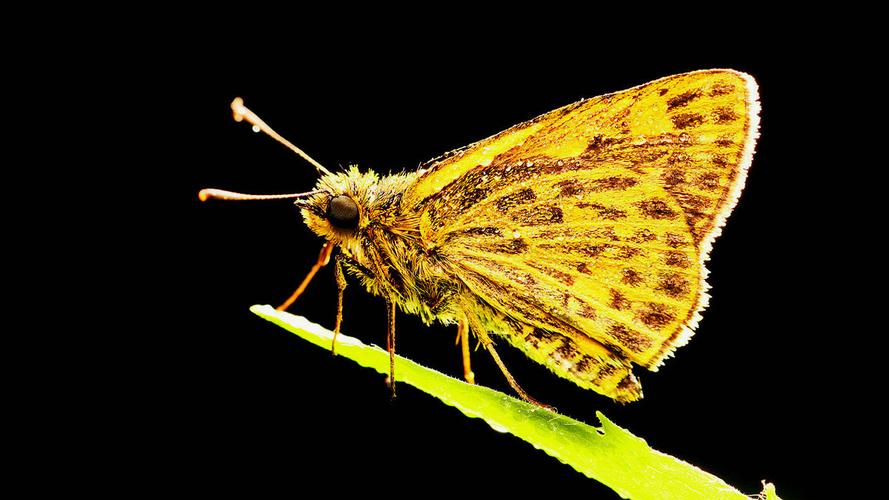Hesperiidae: (200, 69, 763, 410)
